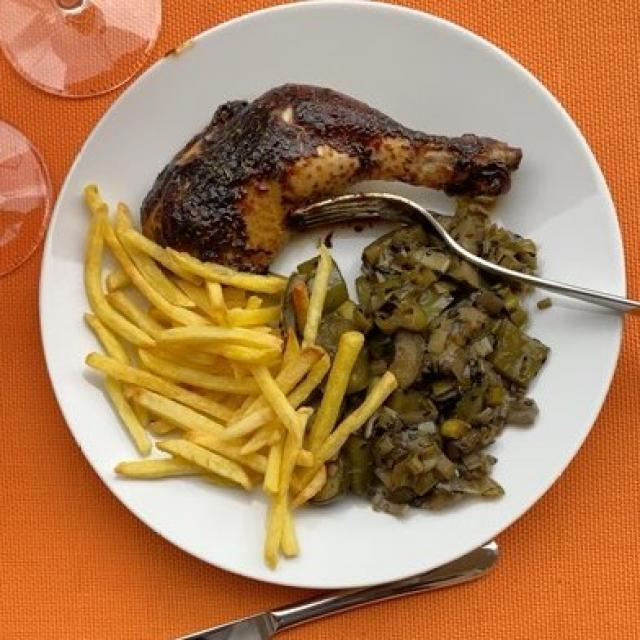chicken: (164, 86, 513, 271)
chips-french-fries: (88, 179, 389, 556)
mixed-vegetables: (302, 221, 546, 503)
